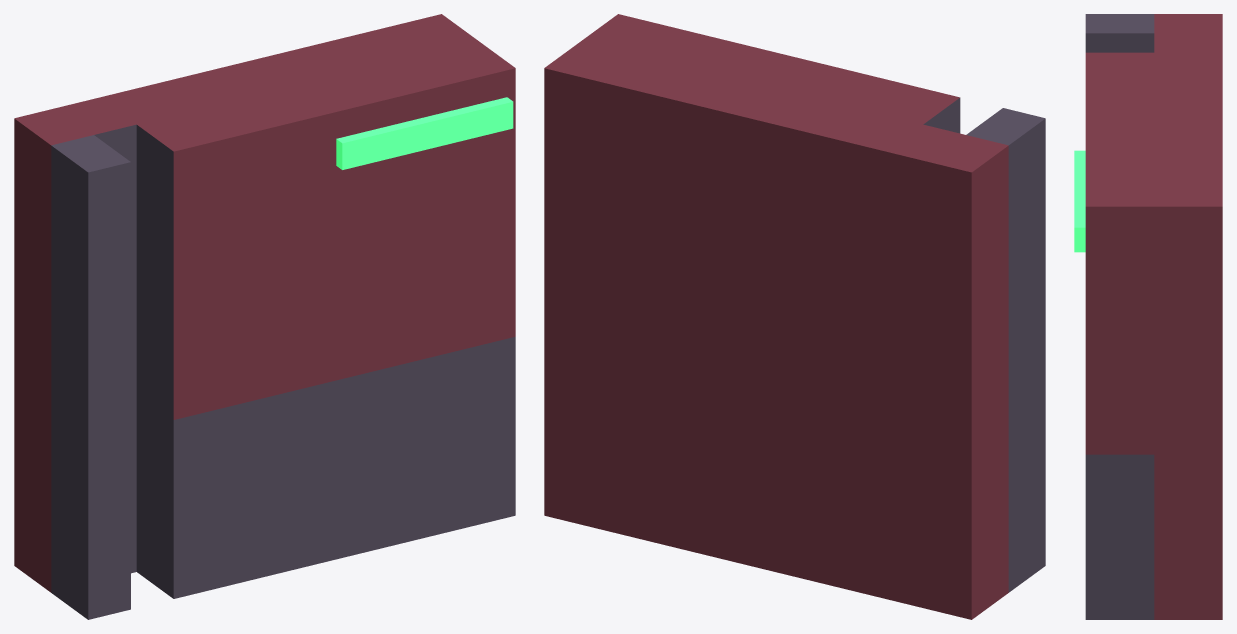
Rendered from KeycardReader.fbx.
3 renders of one model, left to right at view 1: azimuth 30°, elevation 25°; view 2: azimuth 150°, elevation 25°; view 3: azimuth 270°, elevation 25°, orthographic. The views are drawn at different scales.
Visible parts, largest first — view 1: KeycardReader; view 2: KeycardReader; view 3: KeycardReader.
Boxes of the visible parts, x1,y1,x2,y2 form: KeycardReader: [14, 14, 515, 619]; KeycardReader: [544, 14, 1045, 619]; KeycardReader: [1074, 14, 1222, 619].
Size of the model in its own units: 1 by 0.325 by 1.
